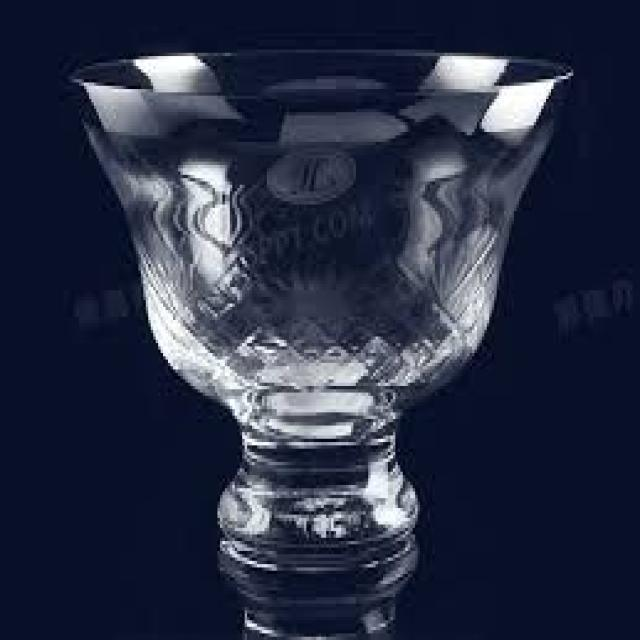glass: (67, 43, 571, 571)
